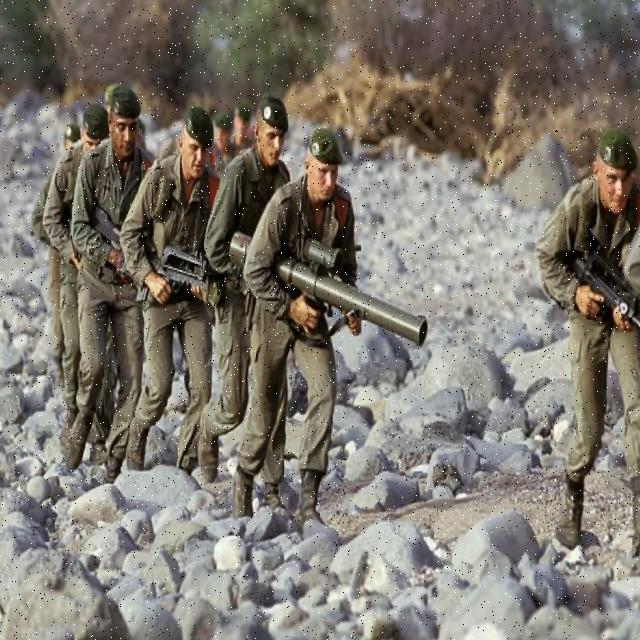bazooka: (223, 218, 448, 369)
